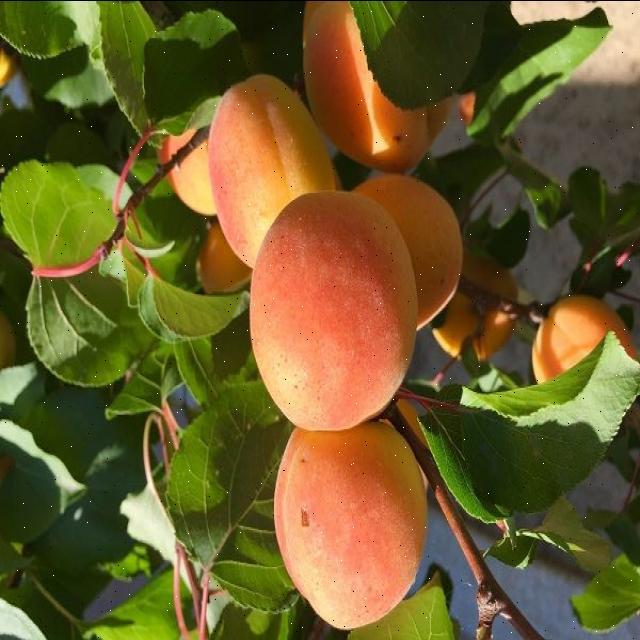Kayisi: (251, 192, 418, 430), (274, 422, 426, 629), (208, 75, 339, 266)
Yaprak: (420, 333, 639, 521), (166, 380, 298, 614), (0, 161, 115, 267)
